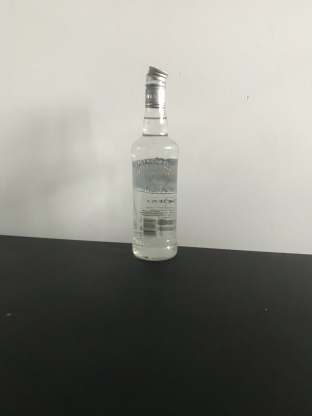nakretka: (143, 64, 169, 108)
